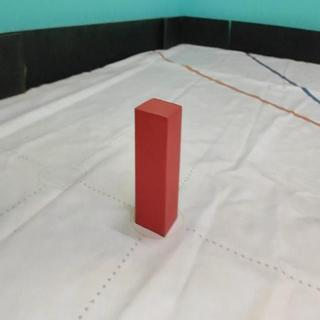redbox: (133, 97, 182, 238)
